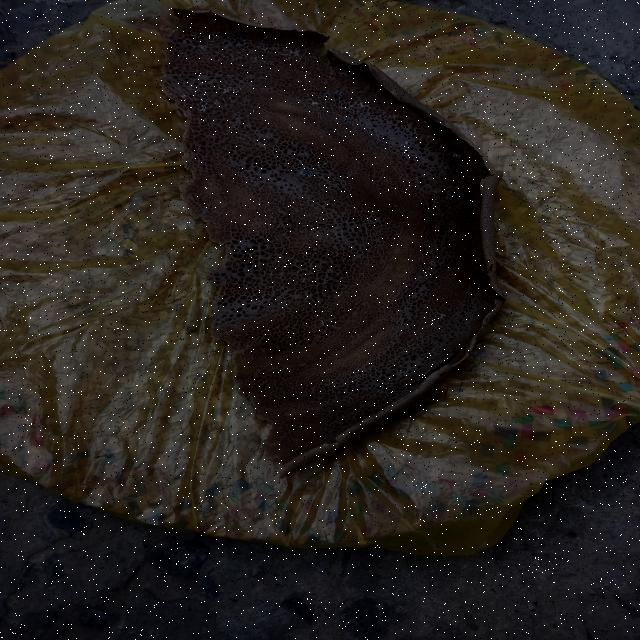injera_mold: (280, 48, 303, 61), (192, 99, 210, 113), (349, 100, 373, 110), (217, 86, 243, 95), (448, 150, 464, 160), (329, 90, 343, 100), (256, 42, 270, 51), (306, 98, 320, 106), (299, 170, 314, 177), (445, 193, 454, 201), (348, 69, 357, 76), (346, 171, 356, 177), (316, 162, 326, 168), (264, 60, 274, 66), (180, 92, 188, 99), (438, 313, 447, 319), (342, 118, 350, 124), (234, 40, 243, 44), (223, 40, 229, 46), (405, 140, 409, 146), (287, 124, 292, 128), (318, 115, 322, 120), (320, 59, 326, 62), (277, 42, 283, 45), (424, 120, 428, 124), (443, 167, 448, 170), (215, 98, 218, 102), (228, 96, 232, 99), (306, 72, 312, 74), (252, 109, 254, 113), (249, 66, 252, 68), (426, 352, 429, 354), (420, 354, 423, 356), (432, 361, 435, 363), (250, 77, 252, 79), (398, 362, 400, 364), (400, 365, 403, 366), (399, 370, 402, 371), (399, 372, 402, 373), (450, 350, 452, 351)
